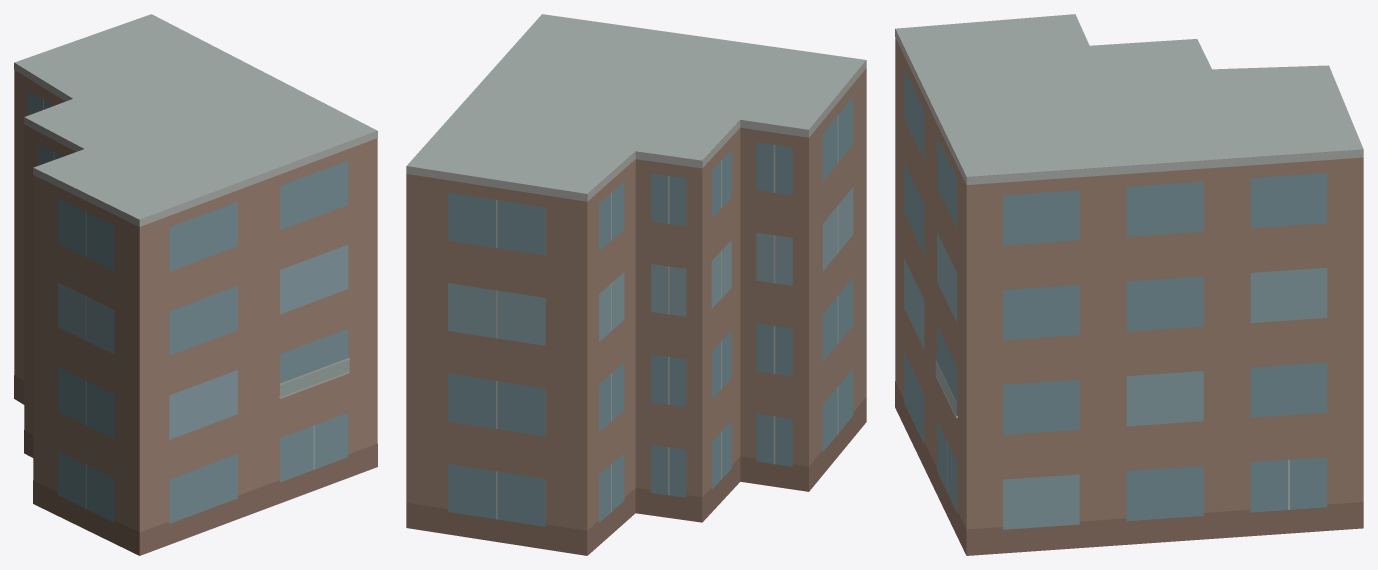
Rendered from survey-upis-32523715.glb.
The picture shows the model from 3 angles, left to right: view 1: azimuth 30°, elevation 25°; view 2: azimuth 150°, elevation 25°; view 3: azimuth 270°, elevation 25°; orthographic projection. The views are drawn at different scales.
Parts seen in each view (by area): view 1: survey-upis-32523715.tmp; view 2: survey-upis-32523715.tmp; view 3: survey-upis-32523715.tmp.
Boxes of the visible parts, x1,y1,x2,y2 form: survey-upis-32523715.tmp: (14,14,377,555); survey-upis-32523715.tmp: (406,14,866,555); survey-upis-32523715.tmp: (895,14,1363,555).
Bounding box in the file's own units: 10.43 × 11.3 × 12.67.
